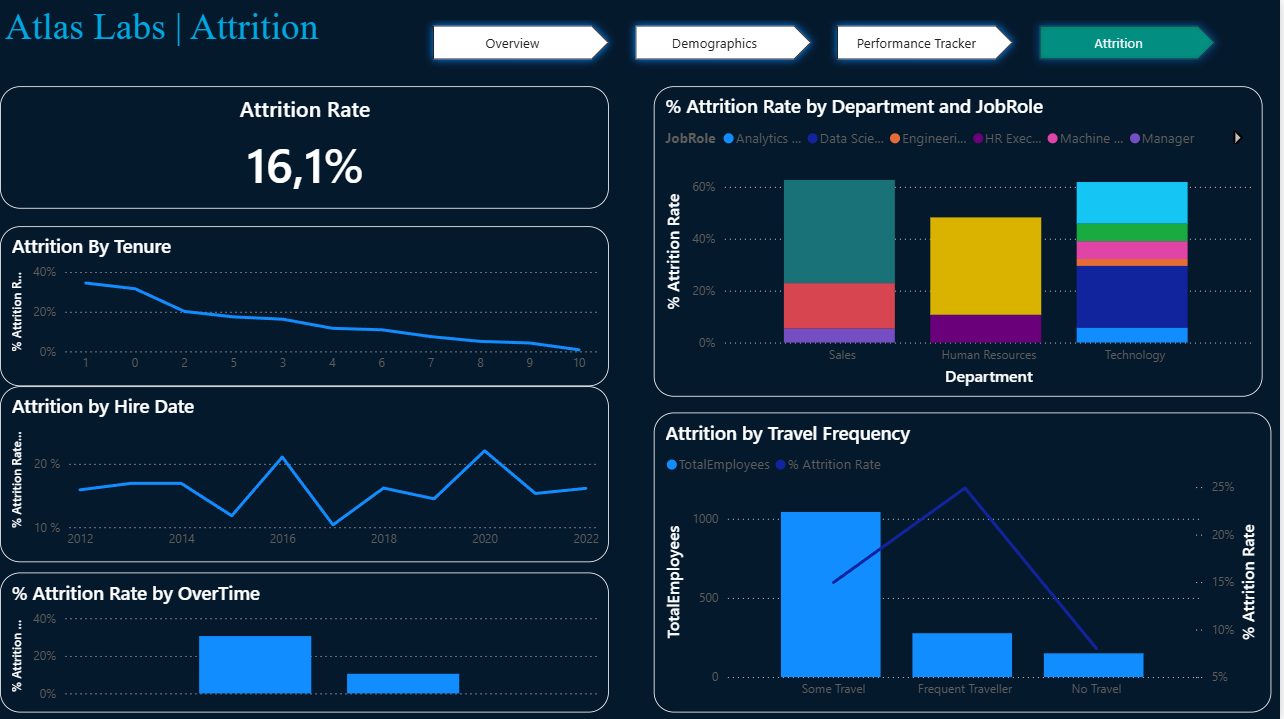

What the dashboard file says about the page in this screenshot:
{"tool":"powerbi","page":{"name":"Attrition","canvas":[1280,720],"ordinal":3},"visuals":[{"type":"card","title":"Attrition Rate","fields":{"Values":["_Measures.% Attrition Rate"]},"box":[0,85.9,608.6,122.7],"z":0},{"type":"columnChart","fields":{"Y":["_Measures.% Attrition Rate"],"Category":["DimEmployee.Department"],"Series":["DimEmployee.JobRole"]},"box":[654,85.9,608.6,310.4],"z":1000},{"type":"lineChart","title":"Attrition by Hire Date","fields":{"Y":["_Measures.% Attrition Rate Date"],"Category":["DimDate.Date.Variation.Date Hierarchy.Year"]},"box":[0,386.7,608.8,176],"z":2000},{"type":"lineStackedColumnComboChart","title":"Attrition by Travel Frequency","fields":{"Category":["DimEmployee.BusinessTravel"],"Y":["_Measures.TotalEmployees"],"Y2":["_Measures.% Attrition Rate"]},"box":[653.6,412.6,617.5,300.1],"z":3000},{"type":"columnChart","fields":{"Category":["DimEmployee.OverTime"],"Y":["_Measures.% Attrition Rate"]},"box":[0,573,608.6,139.9],"z":4000},{"type":"lineChart","title":"Attrition By Tenure","fields":{"Y":["_Measures.% Attrition Rate"],"Category":["DimEmployee.YearsAtCompany"]},"box":[0,226.5,608.8,160.1],"z":5000},{"type":"textbox","box":[0,0,1279.7,85.4],"z":6000},{"type":"pageNavigator","box":[425.6,17.3,799.3,50.5],"z":7000}]}

Visuals, with their boxes in screenshot pixels (x1, y1, x2, y2), scaled from the page's 1280x720 canvas onto the 1284x719 screenshot:
"Attrition Rate" card: crop(0, 86, 611, 208)
columnChart - _Measures.% Attrition Rate x DimEmployee.Department: crop(656, 86, 1267, 396)
"Attrition by Hire Date" lineChart: crop(0, 386, 611, 562)
"Attrition by Travel Frequency" lineStackedColumnComboChart: crop(656, 412, 1275, 712)
columnChart - DimEmployee.OverTime x _Measures.% Attrition Rate: crop(0, 572, 611, 712)
"Attrition By Tenure" lineChart: crop(0, 226, 611, 386)
textbox: crop(0, 0, 1283, 85)
pageNavigator: crop(427, 17, 1229, 68)
